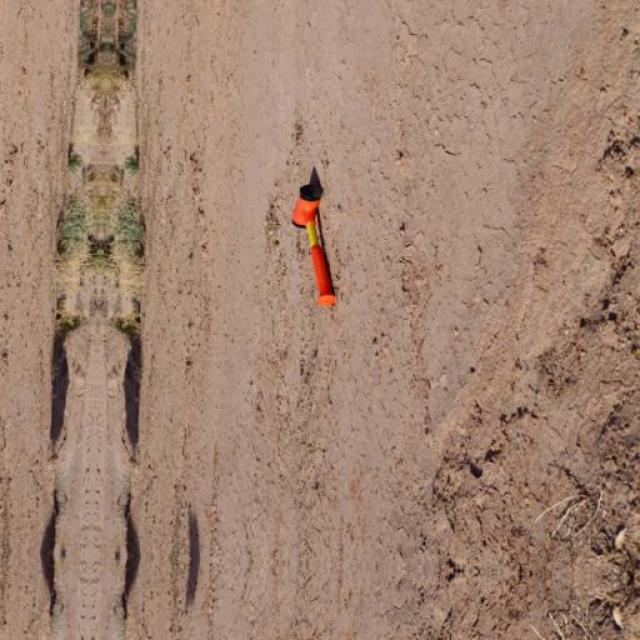mallet: (291, 165, 339, 309)
